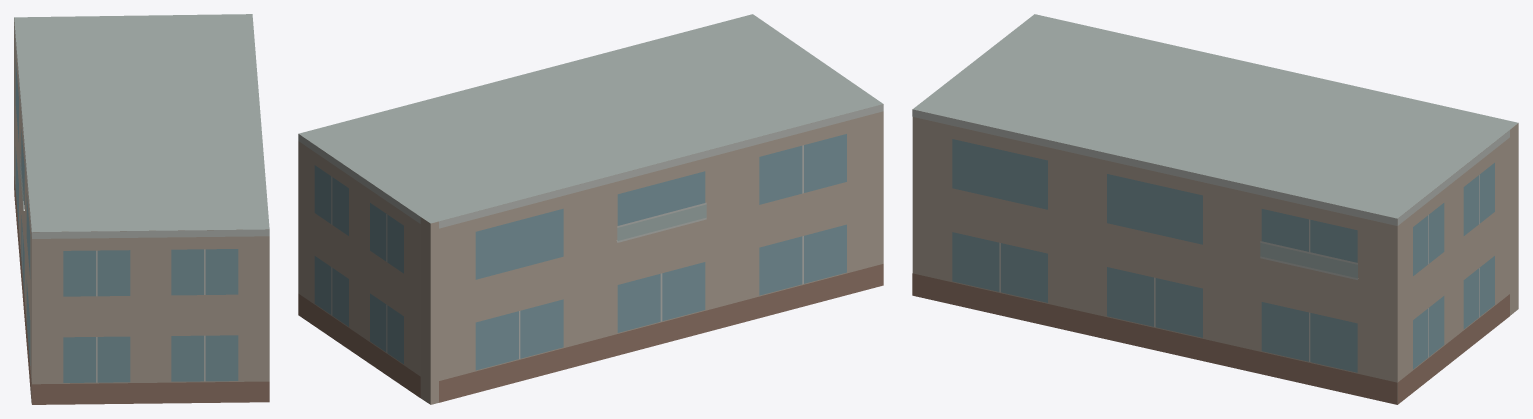
Rendered from survey-upis-32779627.glb.
The picture shows the model from 3 angles, left to right: view 1: azimuth 30°, elevation 25°; view 2: azimuth 150°, elevation 25°; view 3: azimuth 270°, elevation 25°; orthographic projection. The views are drawn at different scales.
Parts seen in each view (by area): view 1: survey-upis-32779627.tmp; view 2: survey-upis-32779627.tmp; view 3: survey-upis-32779627.tmp.
Boxes of the visible parts, bbox=[...] form: survey-upis-32779627.tmp: bbox=[14, 14, 269, 404]; survey-upis-32779627.tmp: bbox=[298, 14, 883, 404]; survey-upis-32779627.tmp: bbox=[912, 14, 1518, 404].
Size of the model in its own units: 14.39 by 6.1 by 18.
